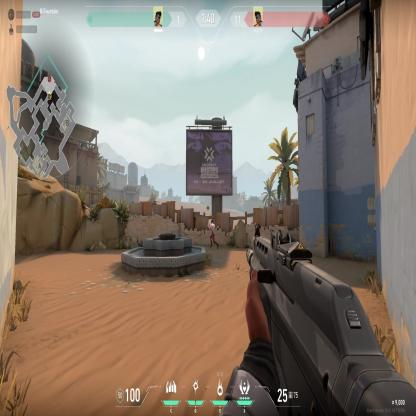enemy: (208, 218, 219, 251)
